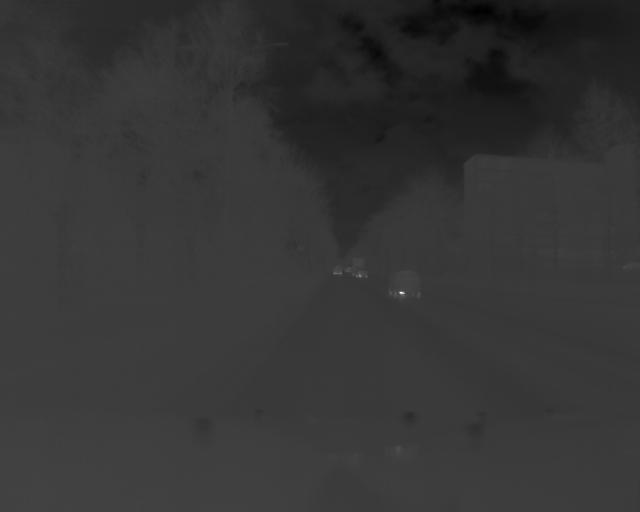car: (386, 267, 433, 303), (354, 267, 375, 283), (350, 255, 370, 271), (325, 263, 347, 276)
